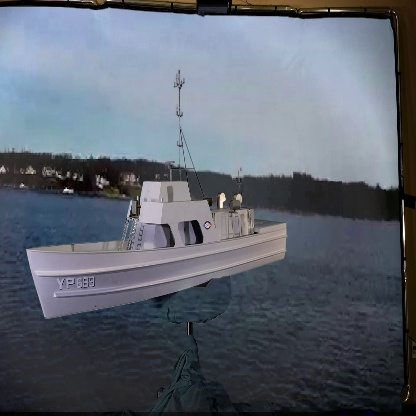YP689: (25, 70, 288, 323)
